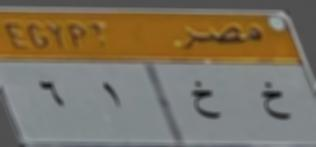1: (100, 78, 128, 120)
6: (40, 73, 68, 117)
khaa: (178, 76, 225, 131), (251, 77, 296, 127)
